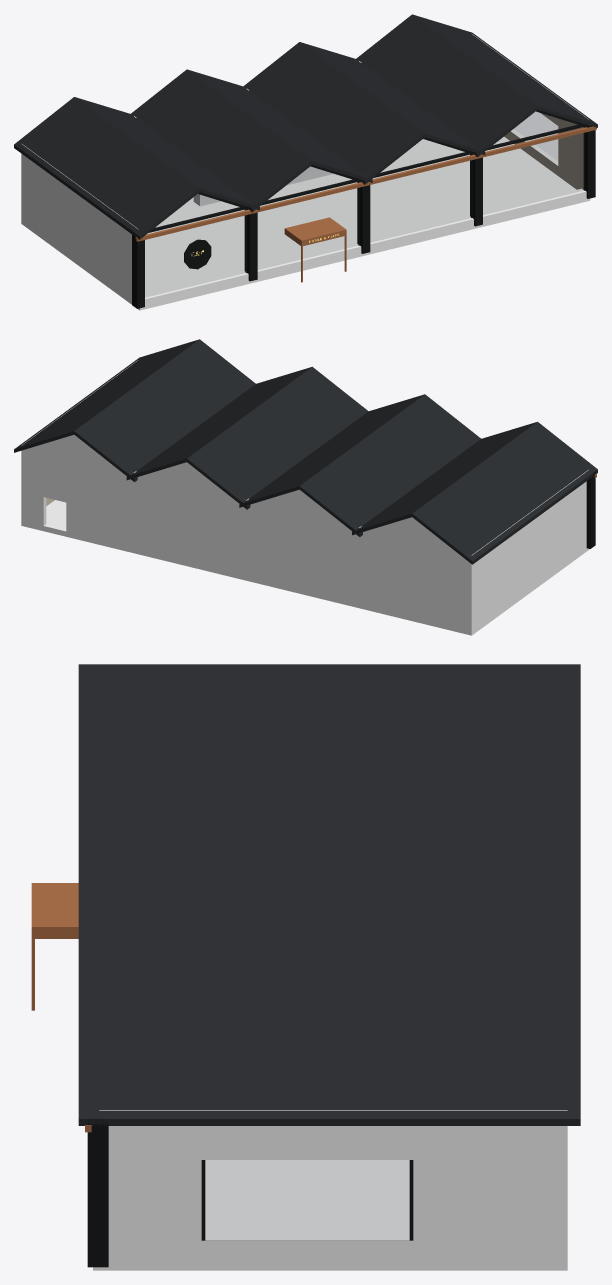
The model's file is ember_and_olive_lod2.glb.
3 views of the same model, one above another, from view 1: azimuth 30°, elevation 25°; view 2: azimuth 150°, elevation 25°; view 3: azimuth 270°, elevation 25° (orthographic). The views are drawn at different scales.
Parts seen in each view (by area): view 1: P10_LOD2_BUILDING_EXTERIOR_GableRoofs, P10_LOD2_BUILDING_INTERIOR_GroundSlab, P10_LOD2_BUILDING_EXTERIOR_Shell, P10_LOD2_FACADE_DETAILS_SteelFrames, P10_LOD2_GLASS_SYSTEM_Bay3Glass, P10_LOD2_GLASS_SYSTEM_Bay2Glass, P10_LOD2_GLASS_SYSTEM_Bay0Glass, P10_LOD2_GLASS_SYSTEM_Bay1Glass, P10_LOD2_GLASS_SYSTEM_Gables, P10_LOD2_SIGNAGE_Brand, P10_LOD2_DISPLAY_OBJECTS_DisplayKitchen; view 2: P10_LOD2_BUILDING_EXTERIOR_GableRoofs, P10_LOD2_BUILDING_EXTERIOR_Shell, P10_LOD2_BUILDING_INTERIOR_GroundSlab, P10_LOD2_FACADE_DETAILS_SteelFrames; view 3: P10_LOD2_BUILDING_EXTERIOR_GableRoofs, P10_LOD2_BUILDING_EXTERIOR_Shell, P10_LOD2_BUILDING_INTERIOR_GroundSlab, P10_LOD2_GLASS_SYSTEM_SideGlass, P10_LOD2_FACADE_DETAILS_SteelFrames, P10_LOD2_GLASS_SYSTEM_SideFrame.
Boxes of the visible parts, bbox=[...] form: P10_LOD2_BUILDING_EXTERIOR_GableRoofs: bbox=[14, 14, 597, 239]; P10_LOD2_BUILDING_INTERIOR_GroundSlab: bbox=[21, 137, 576, 304]; P10_LOD2_BUILDING_EXTERIOR_Shell: bbox=[21, 34, 590, 310]; P10_LOD2_FACADE_DETAILS_SteelFrames: bbox=[132, 110, 596, 308]; P10_LOD2_GLASS_SYSTEM_Bay3Glass: bbox=[483, 130, 583, 214]; P10_LOD2_GLASS_SYSTEM_Bay2Glass: bbox=[371, 155, 470, 241]; P10_LOD2_GLASS_SYSTEM_Bay0Glass: bbox=[145, 211, 245, 296]; P10_LOD2_GLASS_SYSTEM_Bay1Glass: bbox=[258, 182, 357, 269]; P10_LOD2_GLASS_SYSTEM_Gables: bbox=[156, 112, 575, 227]; P10_LOD2_SIGNAGE_Brand: bbox=[184, 233, 339, 269]; P10_LOD2_DISPLAY_OBJECTS_DisplayKitchen: bbox=[193, 166, 333, 206]; P10_LOD2_BUILDING_EXTERIOR_GableRoofs: bbox=[14, 339, 597, 564]; P10_LOD2_BUILDING_EXTERIOR_Shell: bbox=[21, 360, 589, 631]; P10_LOD2_BUILDING_INTERIOR_GroundSlab: bbox=[21, 500, 586, 635]; P10_LOD2_FACADE_DETAILS_SteelFrames: bbox=[586, 471, 596, 548]; P10_LOD2_BUILDING_EXTERIOR_GableRoofs: bbox=[78, 664, 580, 1125]; P10_LOD2_BUILDING_EXTERIOR_Shell: bbox=[93, 1110, 567, 1270]; P10_LOD2_BUILDING_INTERIOR_GroundSlab: bbox=[100, 1160, 567, 1270]; P10_LOD2_GLASS_SYSTEM_SideGlass: bbox=[206, 1160, 408, 1239]; P10_LOD2_FACADE_DETAILS_SteelFrames: bbox=[31, 883, 108, 1267]; P10_LOD2_GLASS_SYSTEM_SideFrame: bbox=[201, 1160, 413, 1240].
Size of the model in its own units: 40.8 by 9.4 by 21.12.
